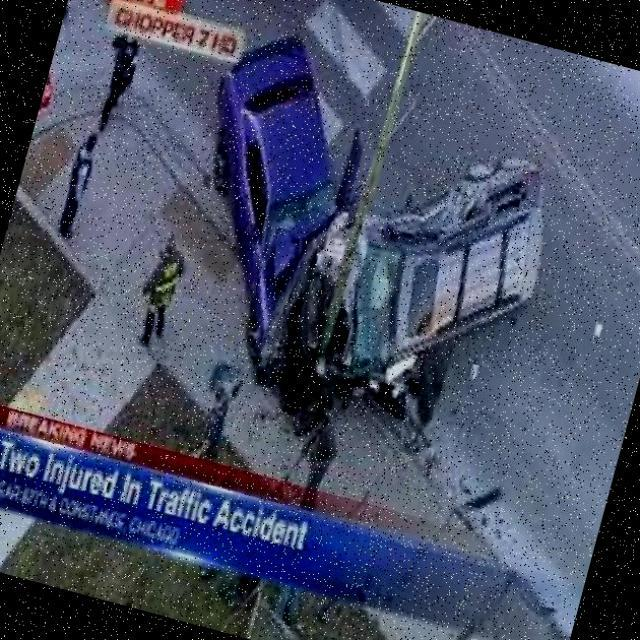accident: (132, 14, 580, 467)
